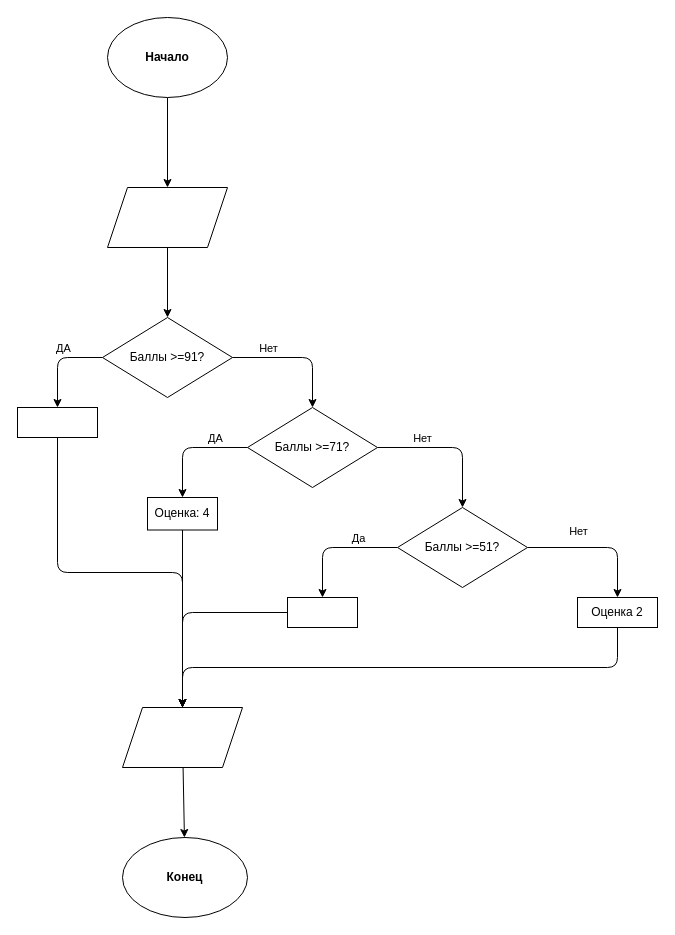
Some shapes in this 675 by 935 pixel diagram are drawn without their labels. The shapes that lost their labels are listed below. From the top down, each one's centre as x and y in pixels, then its label:
point 167,217: Ввод: баллы
point 57,422: Оценка: 5
point 322,612: Оценка 3
point 182,737: Вывод быллы
